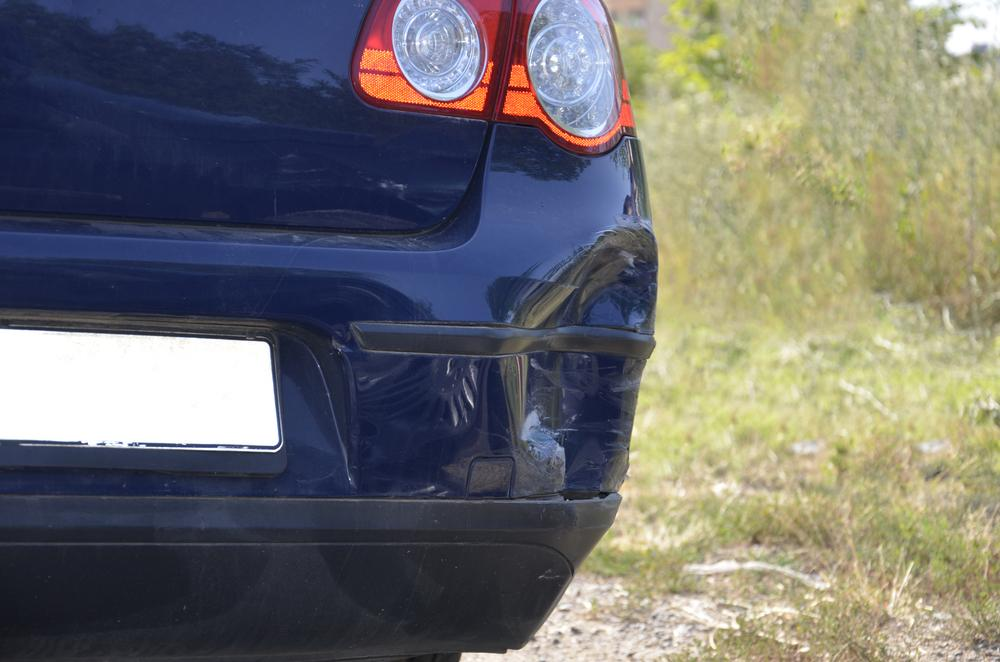dent: (502, 227, 659, 491)
